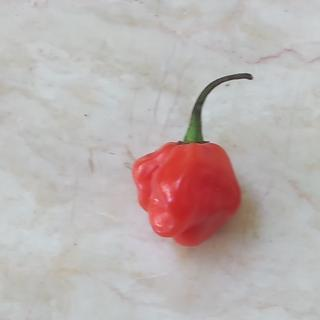Grade-B: (129, 131, 242, 249)
